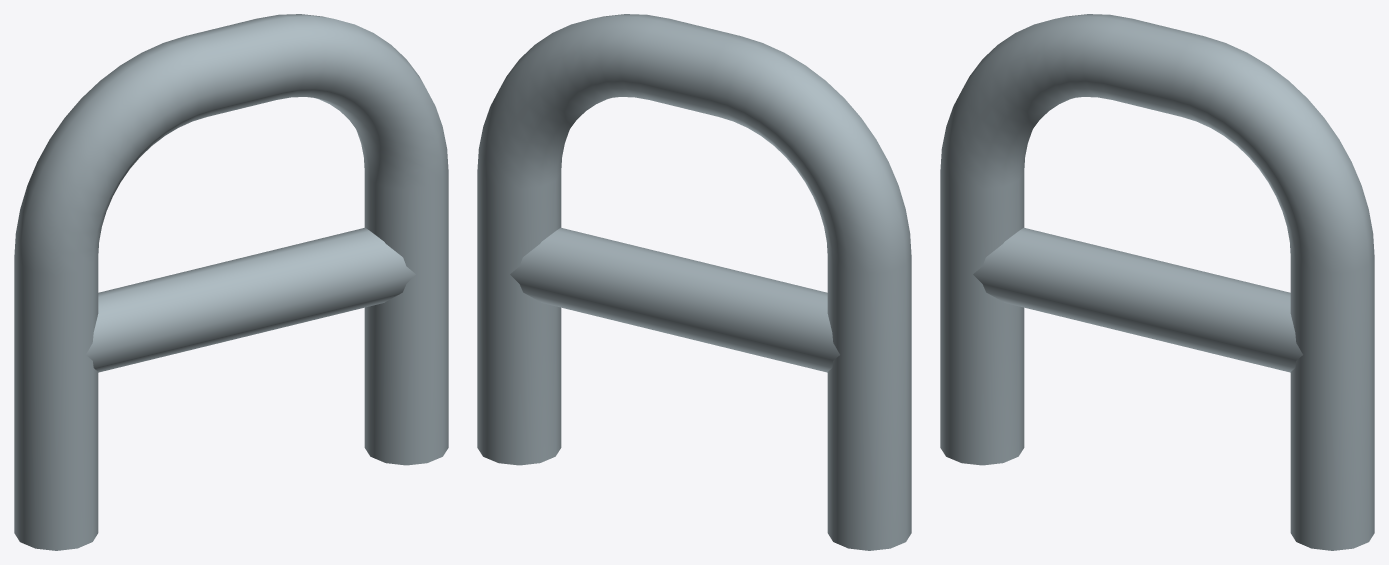
Rendered from barrier.fbx.
3 views of the same model, side by side, from view 1: azimuth 30°, elevation 25°; view 2: azimuth 150°, elevation 25°; view 3: azimuth 330°, elevation 25° (orthographic).
Parts seen in each view (by area): view 1: barrierSmall; view 2: barrierSmall; view 3: barrierSmall.
Part boxes in pixels (box(x1,y1,x2,y2)): barrierSmall: box(14, 14, 448, 550); barrierSmall: box(477, 14, 911, 550); barrierSmall: box(940, 14, 1374, 550).
Size of the model in its own units: 96.1 by 100 by 16.5.
